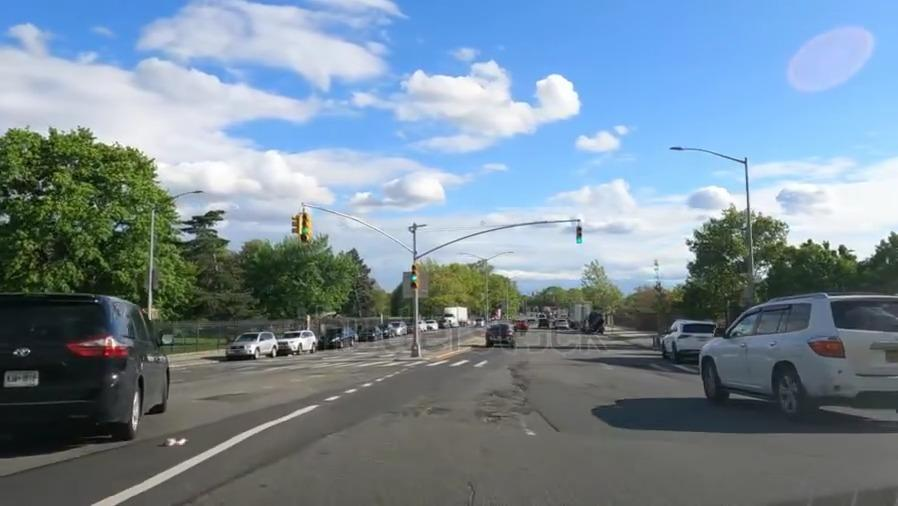car: (5, 282, 180, 440), (700, 315, 898, 416), (658, 318, 717, 358), (222, 331, 280, 361), (279, 331, 318, 355), (484, 322, 516, 349), (317, 327, 354, 350), (378, 323, 394, 342), (388, 321, 406, 337), (359, 328, 380, 341), (411, 319, 426, 333), (513, 318, 528, 332), (424, 320, 438, 333), (537, 317, 549, 329), (556, 319, 567, 329)
pedestrian: (429, 353, 699, 377), (184, 359, 428, 374)
person: (512, 408, 561, 436), (490, 390, 517, 409), (428, 402, 450, 419), (513, 380, 527, 395), (488, 411, 500, 424)
rubbish: (163, 434, 192, 451)
traffic light: (288, 210, 313, 243), (407, 260, 422, 293), (572, 223, 586, 247)
wheel: (764, 363, 807, 411), (120, 381, 147, 438), (697, 355, 724, 399)
